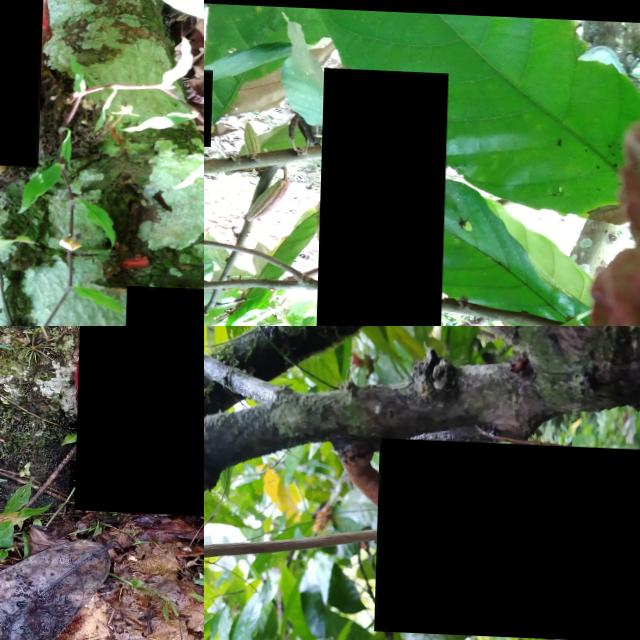Fitoftora: (318, 65, 448, 326), (77, 326, 204, 512), (0, 0, 46, 163)
Monilia: (376, 436, 640, 640)
Sana: (246, 174, 291, 228), (241, 121, 267, 155)
